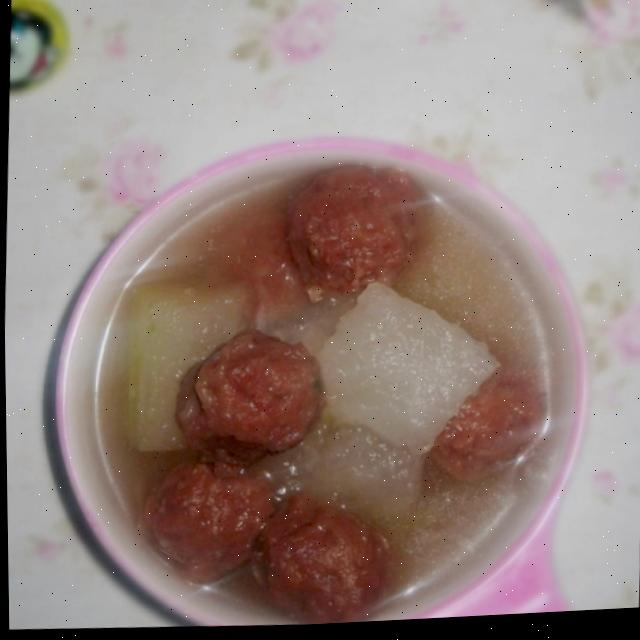汤锅炖物: (54, 97, 583, 635)
